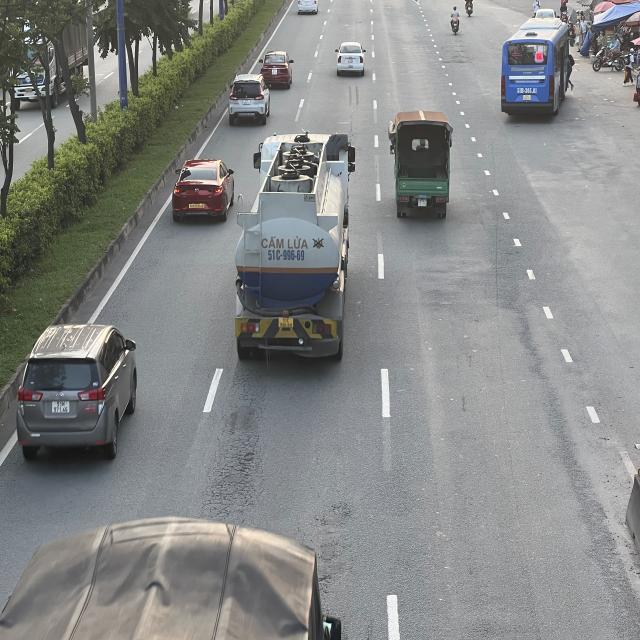car: (15, 320, 138, 457), (174, 162, 236, 226), (230, 72, 274, 123), (262, 51, 294, 90), (336, 42, 368, 77)
coach: (502, 15, 576, 114)
container: (235, 130, 354, 361)
truck: (389, 111, 454, 217)
